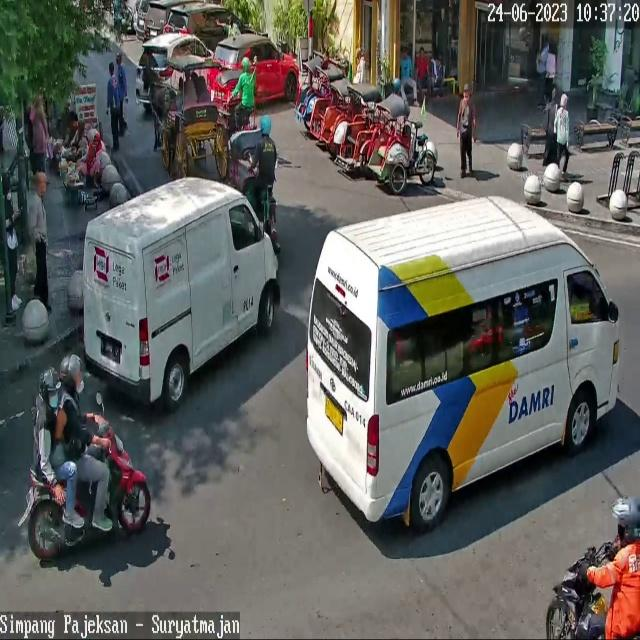bus: (27, 411, 153, 562), (548, 540, 617, 640)
car: (305, 195, 620, 534)
motorcycle: (72, 177, 280, 416), (207, 33, 299, 104), (163, 3, 257, 63), (136, 34, 214, 104), (143, 0, 169, 40)
